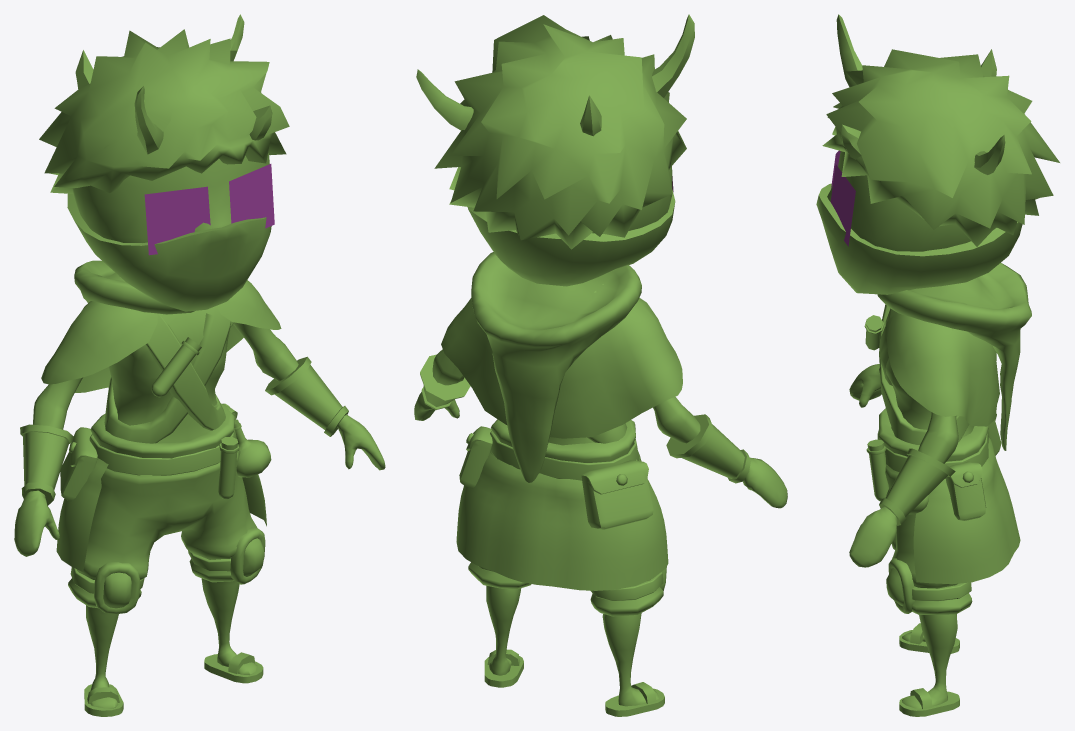
Rendered from Rouge_Undead.fbx.
3 views of the same model, side by side, from view 1: azimuth 30°, elevation 25°; view 2: azimuth 150°, elevation 25°; view 3: azimuth 270°, elevation 25° (orthographic). The views are drawn at different scales.
Parts seen in each view (by area): view 1: Rouge_Head_Undead, Rouge_Torso_Undead, Rouge_Legs_Undead, Character_Eyes; view 2: Rouge_Head_Undead, Rouge_Torso_Undead, Rouge_Legs_Undead; view 3: Rouge_Head_Undead, Rouge_Torso_Undead, Rouge_Legs_Undead, Character_Eyes.
Part boxes in pixels (x1,y1,x2,y2): Rouge_Head_Undead: (39,14,289,311); Rouge_Torso_Undead: (14,260,385,556); Rouge_Legs_Undead: (56,403,271,716); Character_Eyes: (144,164,274,255); Rouge_Head_Undead: (416,14,694,286); Rouge_Torso_Undead: (414,252,787,508); Rouge_Legs_Undead: (456,419,668,716); Rouge_Head_Undead: (816,14,1059,294); Rouge_Torso_Undead: (849,263,1031,567); Rouge_Legs_Undead: (866,408,1020,716); Character_Eyes: (830,150,855,246).
Bounding box in the file's own units: 121 × 209 × 73.47.
